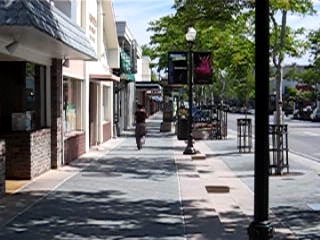person: (133, 103, 148, 150), (132, 103, 147, 150), (134, 103, 149, 150), (133, 102, 148, 149), (133, 104, 148, 151)
target_negative: (117, 16, 224, 148), (37, 150, 301, 181), (183, 197, 292, 240), (246, 208, 262, 234), (53, 94, 111, 100), (288, 152, 303, 159)
